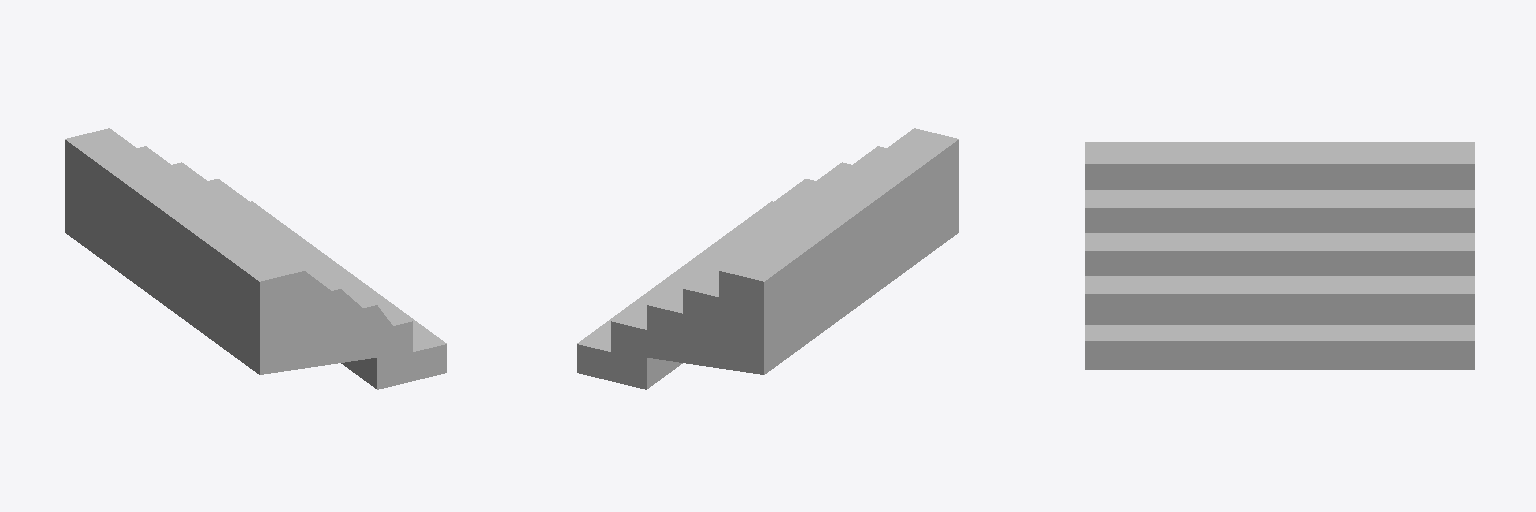
File: stairs.obj
3 renders of one model, left to right at view 1: azimuth 30°, elevation 25°; view 2: azimuth 150°, elevation 25°; view 3: azimuth 270°, elevation 25°, orthographic.
Parts seen in each view (by area): view 1: Cube.002; view 2: Cube.002; view 3: Cube.002.
Part boxes in pixels (bbox=[...]): Cube.002: bbox=[65, 128, 446, 389]; Cube.002: bbox=[577, 128, 958, 389]; Cube.002: bbox=[1085, 142, 1474, 369].
Size of the model in its own units: 4.28 by 2.98 by 7.7.